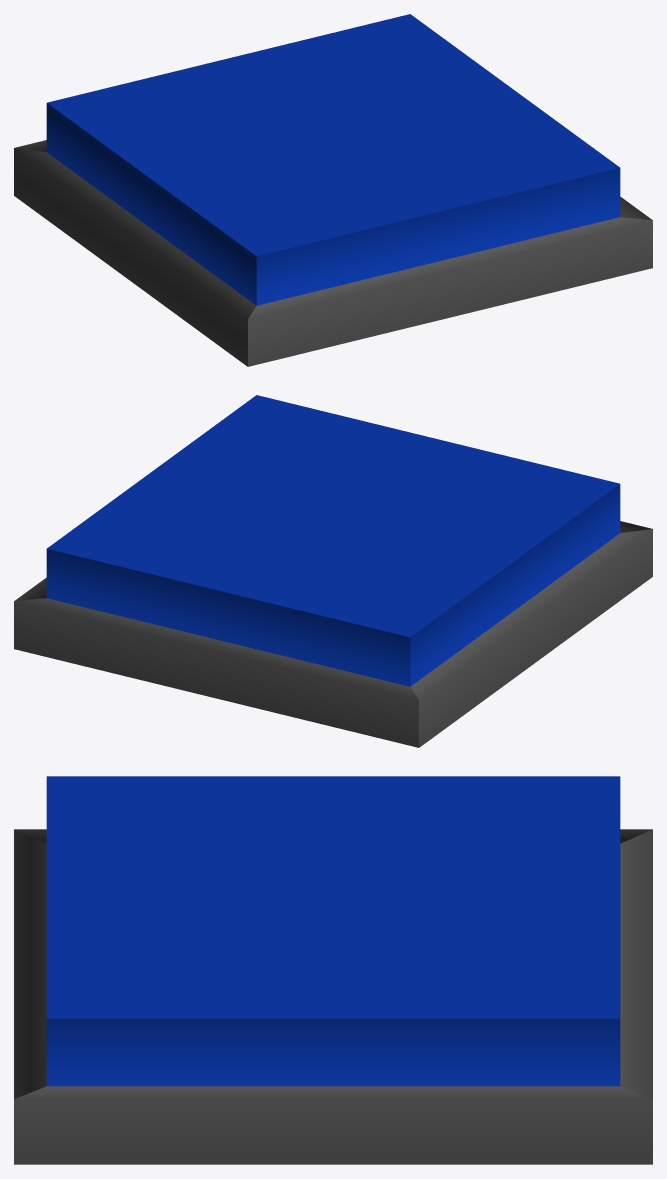
The model's file is PSwitch.fbx.
3 renders of one model, top to bottom at view 1: azimuth 30°, elevation 25°; view 2: azimuth 150°, elevation 25°; view 3: azimuth 270°, elevation 25°, orthographic. The views are drawn at different scales.
Visible parts, largest first — view 1: pCube1; view 2: pCube1; view 3: pCube1.
Part boxes in pixels (x1=…): pCube1: x1=14, y1=14, x2=652, y2=366; pCube1: x1=14, y1=395, x2=652, y2=747; pCube1: x1=14, y1=776, x2=652, y2=1164.
Size of the model in its own units: 4.42 by 1.01 by 4.42.
